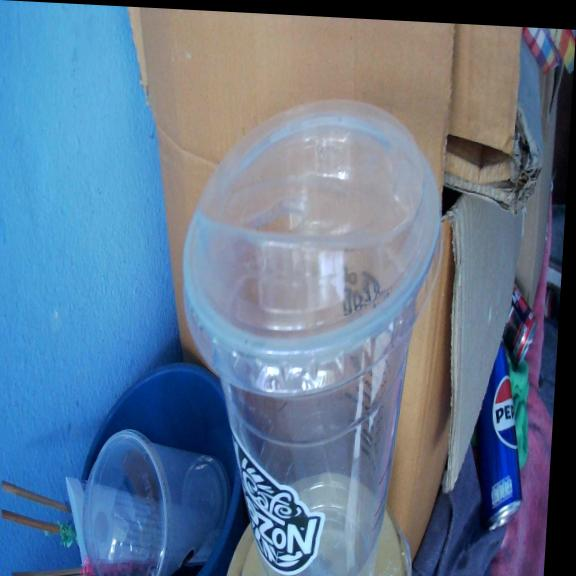Plastik: (184, 101, 440, 575), (83, 430, 229, 575)
